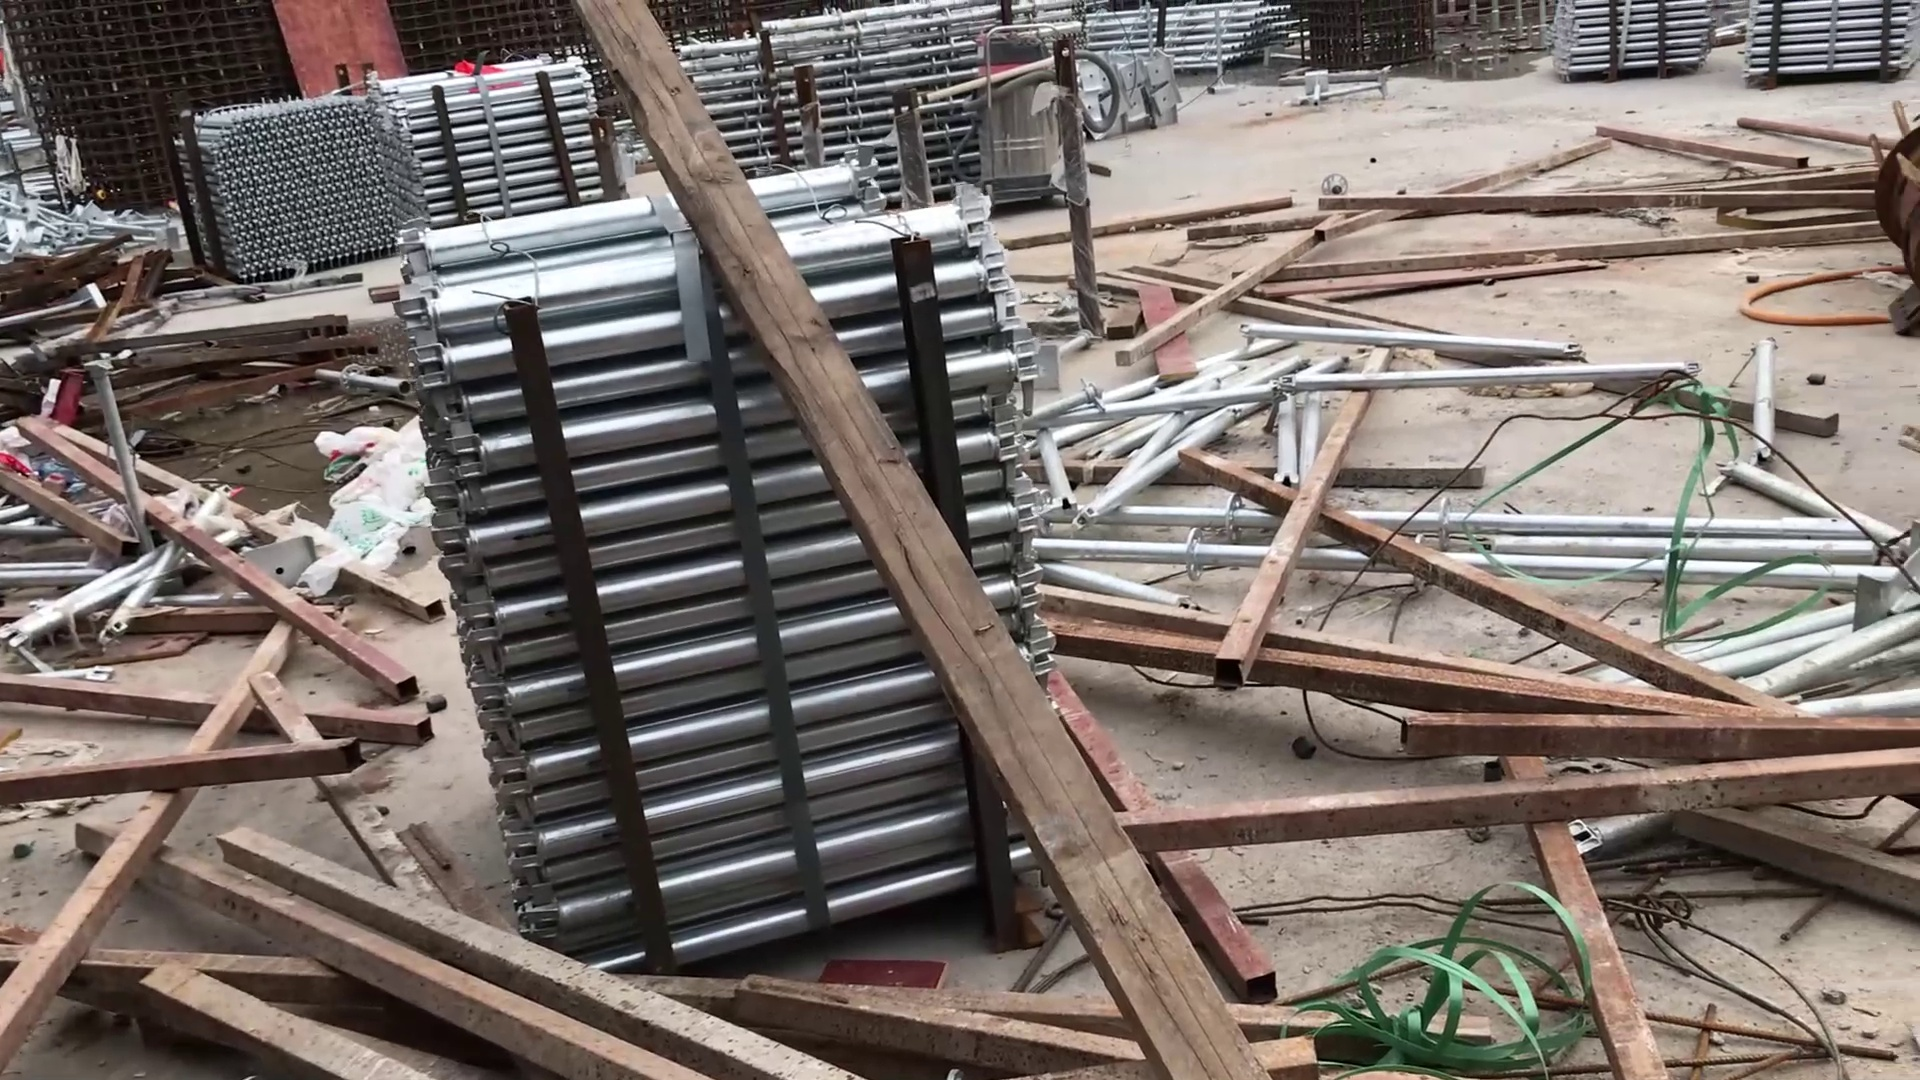scaffold: (373, 164, 1080, 980), (662, 4, 1291, 129), (363, 62, 615, 222), (171, 92, 400, 266), (1535, 5, 1919, 88)
wood: (16, 728, 952, 1080)
